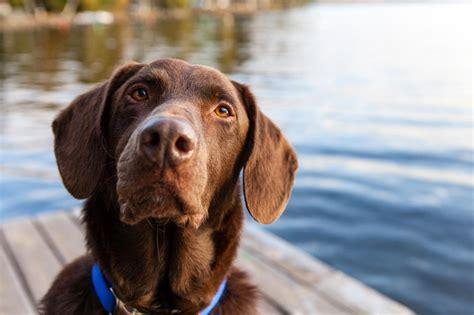dog: (38, 60, 295, 315)
